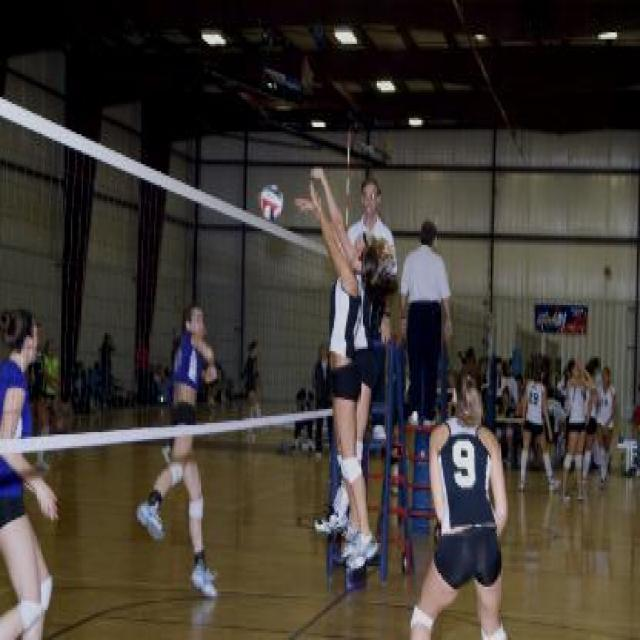volleyball: (258, 184, 284, 222)
